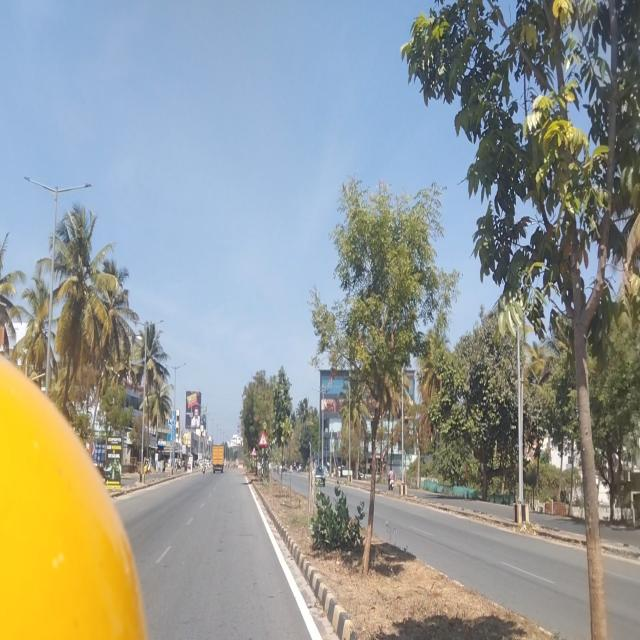bien_cam: (258, 430, 268, 447)
